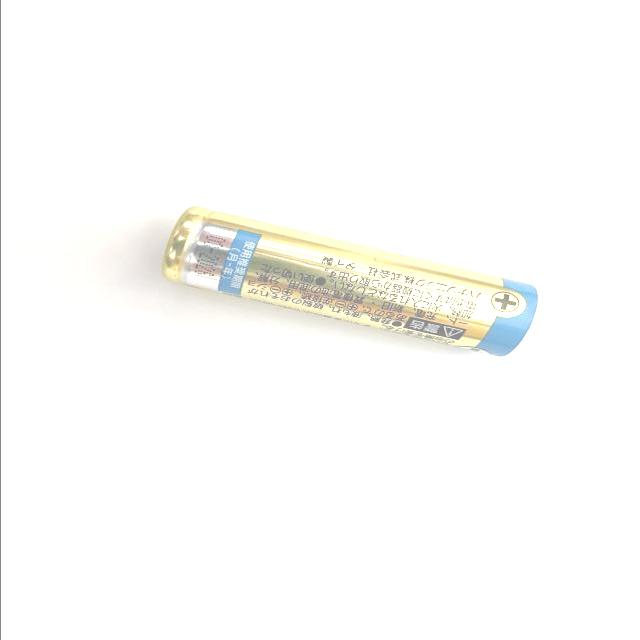AA: (158, 204, 538, 358)
